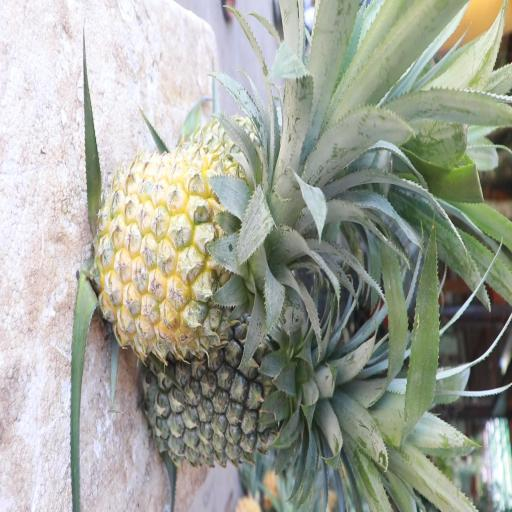------------------------------: (146, 343, 342, 465)
Pineapple - v8 v1: (100, 143, 307, 349)
